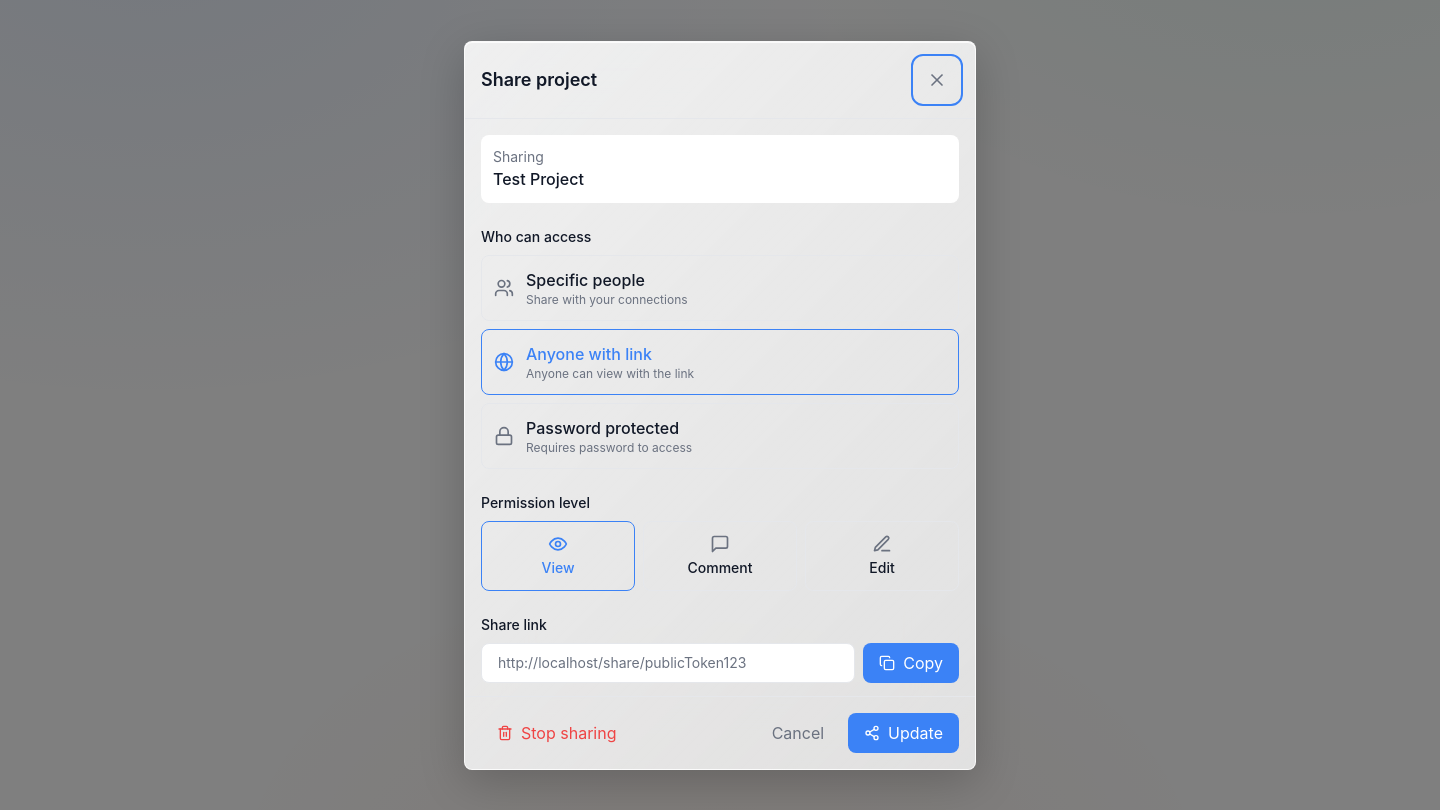
Test case: ShareModal › Public share with link › shows "Copied" after copying link
This screenshot has width=1440, height=810.
Click the text "Anyone with link" at (589,354), box [526,344,652,364]
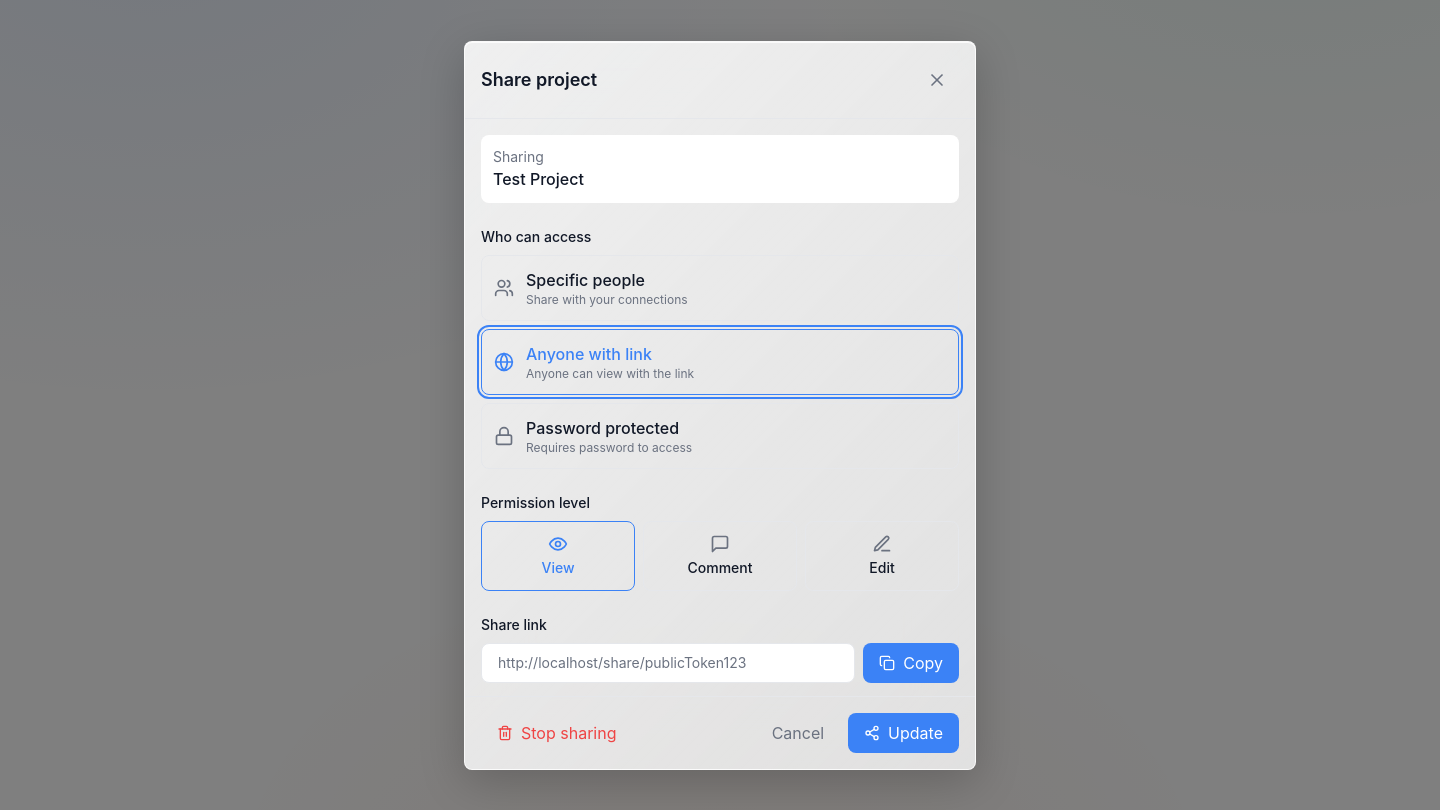
Click the button "Copy" at (911,662), box [863,642,959,682]
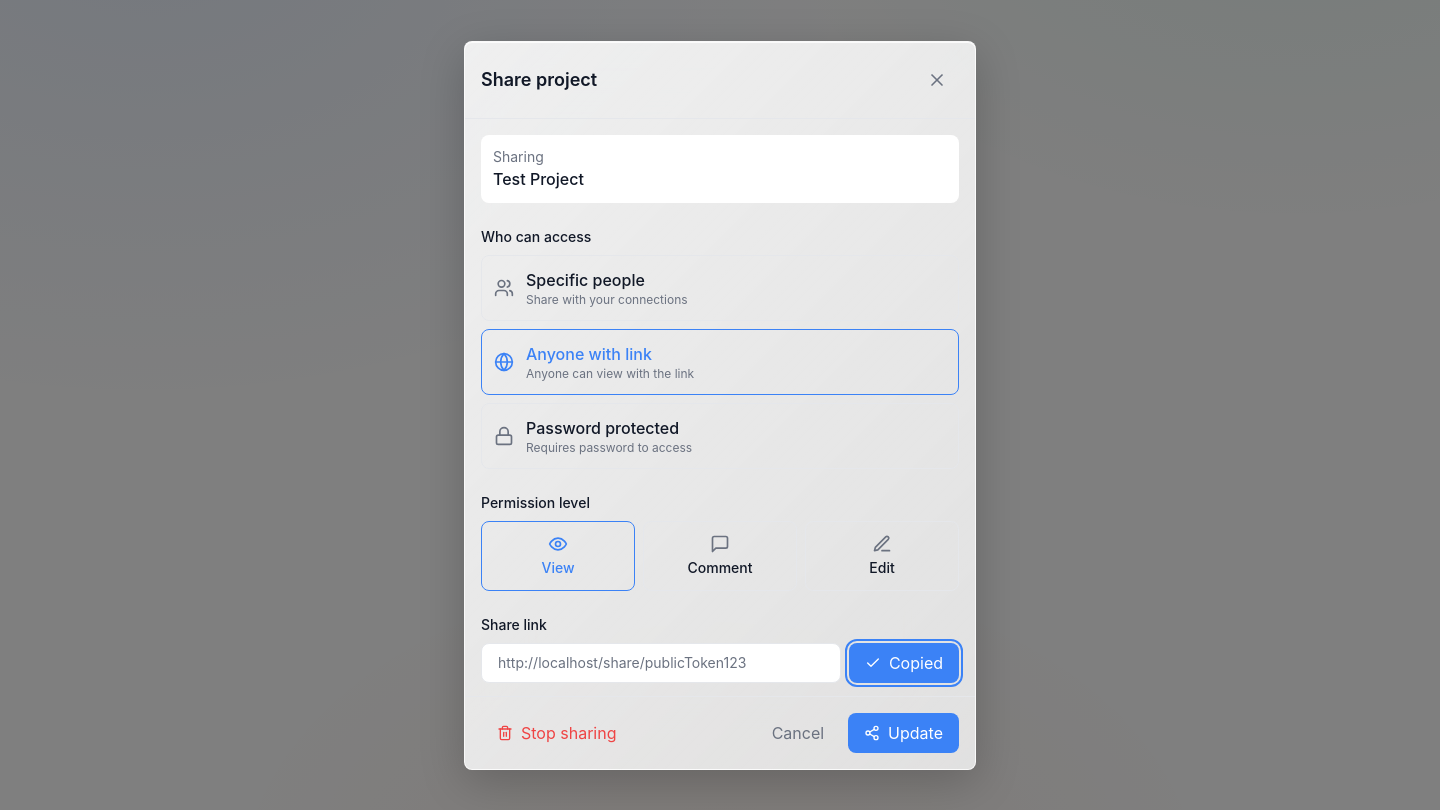
Expected: the button "Copied" is shown, [849,642,959,682]
